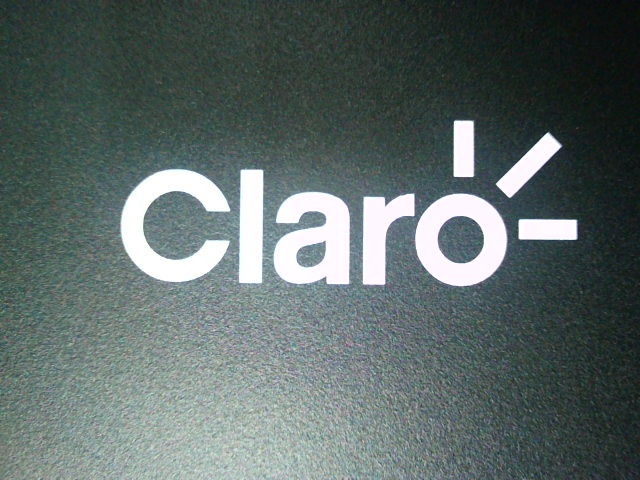BC_Claor: (98, 118, 587, 288)
